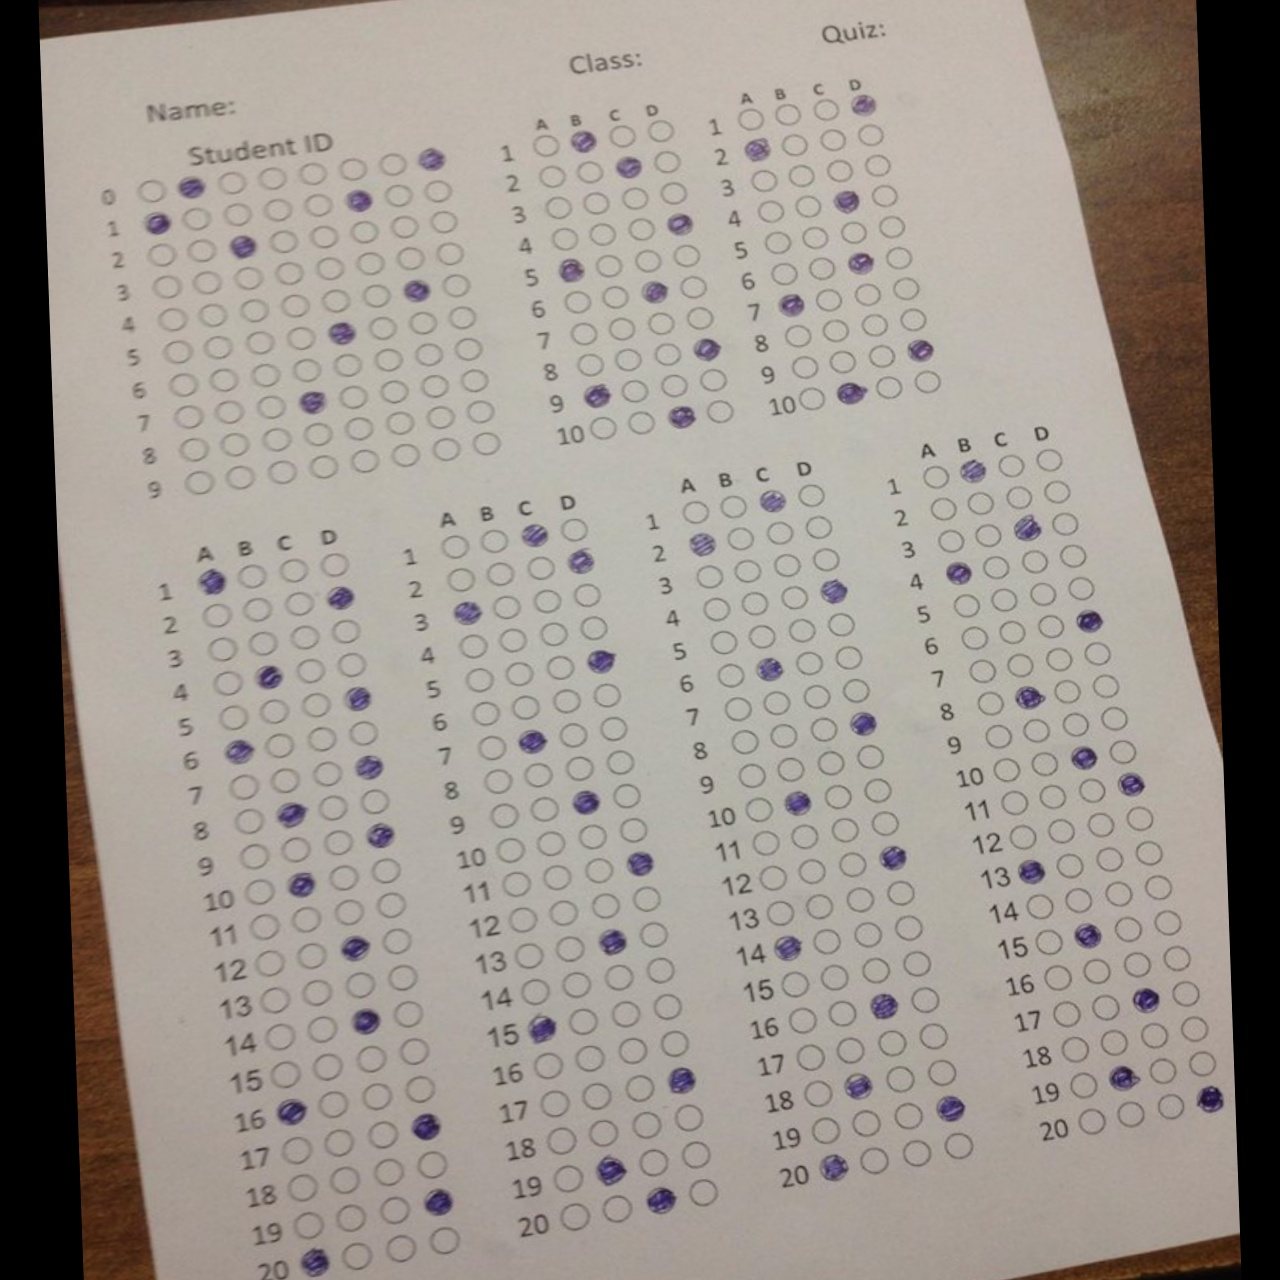not-c: (350, 1042, 389, 1077), (259, 1022, 300, 1053), (542, 1123, 578, 1156), (679, 1139, 715, 1172), (369, 855, 407, 886), (399, 1034, 433, 1068), (430, 1223, 464, 1257), (849, 1108, 884, 1141), (559, 969, 595, 1001), (941, 1130, 978, 1162), (293, 940, 331, 971), (336, 1239, 374, 1269), (608, 999, 646, 1029), (580, 1080, 614, 1112), (686, 1175, 719, 1208), (247, 910, 282, 941), (390, 999, 425, 1030), (256, 985, 292, 1015), (386, 964, 422, 994), (576, 822, 613, 851), (629, 1109, 662, 1142), (268, 1057, 302, 1089), (406, 1075, 440, 1107), (372, 1157, 406, 1189), (618, 815, 652, 846), (892, 1099, 924, 1133), (601, 960, 636, 990), (554, 1160, 585, 1196), (881, 1064, 917, 1095), (250, 948, 286, 978), (291, 656, 328, 685), (672, 1101, 704, 1132), (836, 849, 869, 880), (334, 1204, 368, 1234), (531, 1049, 565, 1080), (617, 1036, 651, 1067), (625, 1074, 659, 1104), (559, 1200, 593, 1231), (835, 1036, 869, 1067), (300, 418, 335, 448), (328, 1163, 358, 1198), (636, 921, 672, 951), (858, 955, 893, 985), (478, 768, 515, 796), (518, 978, 554, 1006), (792, 1042, 829, 1070), (306, 1015, 338, 1047), (640, 1146, 672, 1178), (346, 971, 379, 1001), (290, 1172, 320, 1205), (1033, 927, 1065, 958), (431, 435, 465, 464), (380, 926, 414, 955), (309, 1053, 343, 1082), (564, 754, 598, 783), (572, 1043, 606, 1073), (587, 1118, 621, 1148), (600, 1194, 634, 1224), (821, 781, 855, 810), (883, 879, 917, 908), (1114, 1099, 1148, 1129), (315, 795, 350, 823), (588, 683, 624, 712), (498, 869, 533, 897), (505, 907, 542, 934), (417, 1150, 448, 1182), (381, 1194, 411, 1226), (526, 794, 558, 824), (632, 884, 663, 914), (828, 999, 859, 1029), (919, 459, 951, 490), (1051, 999, 1083, 1029), (348, 447, 381, 476), (278, 556, 311, 585), (282, 590, 315, 619), (348, 719, 381, 748), (386, 1233, 418, 1262), (870, 809, 903, 838), (817, 962, 850, 992), (258, 699, 292, 727), (857, 1146, 891, 1175), (132, 176, 168, 203), (312, 256, 347, 282), (243, 878, 278, 905), (892, 915, 927, 942), (898, 951, 933, 978), (607, 748, 638, 778), (576, 349, 606, 380), (919, 1021, 949, 1051), (361, 282, 393, 312), (324, 1128, 355, 1157), (293, 1210, 325, 1239), (485, 559, 517, 588), (456, 629, 488, 659), (554, 933, 586, 962), (659, 372, 690, 401), (812, 927, 844, 956), (855, 120, 886, 149), (1091, 993, 1123, 1022), (1189, 1049, 1220, 1078), (447, 302, 479, 331), (301, 978, 334, 1006), (486, 802, 519, 830), (652, 149, 685, 177), (651, 342, 683, 370), (763, 898, 796, 926), (843, 887, 876, 915), (906, 985, 939, 1013), (995, 452, 1028, 481), (1121, 949, 1153, 978), (284, 325, 318, 352), (219, 430, 253, 457), (343, 415, 377, 442), (215, 703, 248, 730), (549, 689, 583, 716), (801, 894, 835, 921), (787, 1006, 821, 1033), (801, 1080, 835, 1107), (1080, 959, 1114, 986), (226, 774, 261, 799), (237, 845, 272, 871), (332, 898, 367, 924), (530, 588, 565, 614), (459, 666, 495, 692), (468, 701, 503, 727), (588, 894, 624, 920), (556, 724, 592, 749), (271, 765, 301, 795), (523, 760, 553, 789), (733, 557, 763, 586), (831, 815, 862, 844), (904, 1138, 934, 1167), (1067, 1070, 1097, 1099), (321, 549, 353, 577), (360, 789, 392, 817), (505, 661, 537, 689), (926, 1058, 958, 1087), (973, 520, 1005, 549), (1024, 893, 1056, 921), (1170, 980, 1201, 1008), (250, 361, 282, 388), (465, 399, 498, 425), (278, 835, 311, 862), (290, 904, 322, 931), (316, 1090, 349, 1117), (535, 831, 567, 858), (542, 195, 574, 222), (659, 181, 692, 207), (626, 218, 659, 245), (728, 727, 761, 754), (874, 1030, 907, 1057), (1162, 945, 1194, 972), (299, 693, 333, 719), (477, 527, 511, 553), (539, 865, 573, 891), (716, 493, 750, 519), (232, 266, 267, 291), (199, 604, 234, 628), (281, 1135, 311, 1164), (608, 123, 638, 152), (803, 682, 832, 712), (899, 304, 928, 333), (225, 462, 256, 490), (611, 783, 641, 811), (549, 900, 579, 928), (568, 1007, 599, 1035), (540, 1090, 571, 1118), (613, 343, 644, 372), (842, 675, 872, 703), (1058, 543, 1089, 571), (1062, 710, 1092, 738), (1042, 964, 1073, 992), (392, 441, 423, 468), (233, 808, 265, 835), (375, 892, 407, 919), (476, 735, 508, 762), (646, 955, 678, 982), (653, 993, 685, 1020), (576, 157, 607, 184), (644, 311, 675, 338), (704, 399, 736, 425), (745, 622, 777, 649), (825, 611, 857, 638), (762, 692, 794, 719), (736, 763, 768, 790), (774, 755, 805, 782), (853, 743, 885, 770), (862, 777, 893, 804), (937, 527, 968, 554), (966, 658, 998, 685), (1042, 647, 1074, 674), (1124, 806, 1156, 833), (772, 100, 804, 127), (297, 159, 329, 185), (308, 223, 341, 248), (408, 309, 441, 335), (185, 470, 218, 496), (207, 636, 240, 662), (324, 830, 356, 856), (578, 617, 611, 642), (828, 348, 860, 374), (1081, 641, 1114, 667), (166, 373, 200, 397), (266, 459, 300, 484), (849, 922, 883, 947), (186, 234, 216, 263), (455, 335, 484, 363), (542, 621, 571, 649), (595, 251, 624, 280), (696, 369, 731, 393), (707, 629, 736, 658), (1145, 874, 1175, 903), (1179, 1017, 1208, 1046), (1157, 1091, 1185, 1121), (427, 404, 457, 431), (474, 429, 501, 459), (238, 561, 268, 588), (241, 595, 272, 622), (498, 627, 529, 654), (551, 226, 581, 253), (672, 243, 702, 270), (804, 515, 835, 542), (772, 551, 803, 578), (788, 617, 818, 644), (817, 127, 847, 154), (871, 182, 901, 209), (913, 367, 944, 394), (1050, 510, 1081, 537), (1020, 549, 1050, 576), (1090, 670, 1121, 697), (990, 756, 1021, 783), (1107, 738, 1137, 765), (1114, 917, 1144, 944), (1076, 1108, 1107, 1135), (320, 290, 352, 315), (163, 339, 195, 365), (245, 331, 277, 356), (173, 407, 205, 433), (256, 395, 287, 421), (309, 456, 341, 482), (572, 584, 604, 610), (586, 222, 618, 247), (809, 716, 840, 742), (1058, 1037, 1090, 1063), (1148, 1057, 1179, 1083), (202, 338, 234, 362), (263, 427, 295, 451), (290, 626, 322, 651), (794, 648, 826, 673), (292, 356, 320, 384), (314, 760, 342, 788), (440, 532, 468, 560), (727, 522, 755, 550), (1039, 783, 1067, 811), (369, 314, 399, 341), (421, 372, 450, 399), (308, 726, 338, 753), (331, 864, 360, 891), (513, 942, 543, 969), (561, 290, 591, 316), (930, 493, 959, 520), (1036, 613, 1065, 640), (975, 688, 1005, 715), (218, 171, 248, 197), (384, 182, 415, 207), (356, 251, 387, 277), (198, 302, 229, 328), (332, 353, 362, 379), (332, 621, 362, 647), (336, 651, 367, 676), (584, 858, 614, 884), (647, 117, 678, 143), (583, 191, 613, 217), (633, 248, 663, 274), (796, 482, 826, 508), (722, 696, 753, 722), (782, 971, 812, 996), (1000, 789, 1030, 815), (1054, 852, 1084, 878), (248, 632, 280, 656), (811, 546, 843, 571), (748, 168, 779, 192), (862, 154, 893, 178), (1044, 818, 1076, 843), (258, 168, 291, 191), (338, 157, 370, 181), (179, 438, 212, 462), (781, 324, 813, 347), (363, 1083, 392, 1110), (560, 515, 588, 542), (660, 1030, 688, 1057), (686, 306, 714, 333), (681, 497, 709, 524), (703, 595, 731, 622), (781, 585, 809, 612), (961, 624, 989, 651), (1007, 652, 1035, 679), (1105, 881, 1133, 908), (150, 274, 184, 297), (424, 179, 454, 205), (512, 695, 542, 721), (678, 275, 707, 301), (747, 794, 772, 823), (809, 1116, 838, 1142), (789, 163, 818, 189), (860, 314, 890, 340), (866, 343, 896, 369), (1029, 581, 1058, 607), (1085, 811, 1115, 837), (1099, 1029, 1129, 1055), (417, 343, 448, 368), (216, 670, 246, 695), (495, 838, 525, 863), (620, 186, 651, 211), (568, 322, 599, 347), (587, 415, 618, 440), (765, 522, 796, 546), (751, 832, 782, 857), (789, 823, 819, 847), (770, 263, 801, 287), (821, 318, 851, 342), (1065, 576, 1096, 600), (1008, 823, 1039, 847), (628, 410, 660, 434), (741, 593, 772, 617), (873, 375, 905, 399), (1020, 719, 1051, 742), (274, 263, 307, 285), (370, 1121, 397, 1148), (549, 656, 576, 683), (1080, 777, 1107, 804), (1141, 1022, 1167, 1049), (377, 152, 406, 178), (145, 241, 173, 267), (193, 270, 222, 295), (493, 595, 522, 621), (622, 377, 651, 403), (758, 865, 787, 891), (799, 857, 828, 883), (1037, 448, 1065, 474), (983, 556, 1012, 581), (1065, 886, 1091, 914), (607, 315, 636, 340), (770, 726, 799, 750), (1054, 680, 1083, 704), (1098, 706, 1128, 730), (1032, 751, 1061, 776), (270, 231, 300, 254), (240, 300, 271, 324), (386, 410, 416, 434), (599, 717, 629, 741), (810, 97, 840, 121), (755, 199, 785, 223), (789, 355, 819, 379), (348, 222, 380, 244), (799, 226, 831, 248), (215, 400, 241, 425), (797, 384, 824, 410), (968, 489, 994, 516), (1096, 846, 1122, 873), (1136, 840, 1162, 867), (434, 243, 462, 267), (281, 294, 309, 319), (381, 380, 409, 404), (447, 567, 479, 588), (716, 663, 744, 688), (836, 646, 864, 670), (892, 275, 920, 300), (985, 723, 1013, 748), (224, 203, 253, 226), (442, 274, 471, 298), (738, 108, 768, 131), (304, 193, 334, 216), (395, 248, 425, 271), (157, 308, 188, 331), (877, 215, 907, 237), (429, 213, 461, 234), (211, 366, 237, 392), (342, 386, 368, 411), (602, 285, 628, 311), (1156, 908, 1182, 934), (459, 370, 486, 395), (535, 135, 561, 159), (809, 257, 836, 281), (265, 198, 293, 222), (824, 159, 852, 183), (792, 196, 821, 219), (816, 288, 844, 312), (839, 220, 869, 243), (998, 622, 1027, 645), (268, 734, 295, 757), (527, 554, 554, 578), (539, 164, 566, 188), (855, 284, 881, 307), (990, 588, 1017, 612), (765, 233, 794, 256), (1007, 486, 1035, 509), (953, 594, 981, 617), (1044, 481, 1074, 502), (390, 215, 416, 238), (695, 565, 721, 588), (182, 207, 210, 229), (375, 349, 403, 370), (816, 753, 842, 775), (781, 134, 806, 156), (883, 248, 911, 268)
taken-c: (422, 1183, 461, 1220), (294, 1242, 331, 1279), (1130, 985, 1167, 1019), (253, 659, 290, 693), (565, 546, 602, 579), (338, 935, 376, 966), (567, 788, 606, 818), (645, 1183, 678, 1218), (411, 1111, 447, 1143), (524, 1012, 561, 1041), (638, 277, 672, 308), (1010, 513, 1046, 544), (1107, 1062, 1143, 1091), (1192, 1085, 1228, 1115), (1071, 606, 1109, 634), (869, 992, 900, 1024), (934, 1094, 967, 1125), (274, 1095, 308, 1125), (597, 927, 631, 958), (662, 1065, 697, 1095), (1073, 921, 1104, 953), (817, 1155, 850, 1185), (877, 845, 915, 871), (196, 567, 230, 597), (365, 823, 399, 852), (585, 647, 619, 676), (595, 1155, 629, 1184), (1016, 855, 1050, 884), (1114, 772, 1150, 799), (353, 753, 384, 783), (350, 1008, 382, 1039), (1070, 744, 1102, 775), (905, 336, 939, 365), (835, 381, 869, 409), (818, 577, 852, 605), (771, 937, 805, 965), (1014, 685, 1048, 713), (580, 387, 617, 413), (347, 188, 377, 218), (229, 233, 261, 261), (325, 322, 359, 349), (343, 688, 377, 715), (516, 728, 550, 755), (753, 656, 787, 683), (844, 1073, 874, 1102), (959, 455, 988, 485), (224, 737, 256, 765), (418, 147, 451, 173), (290, 871, 319, 900), (693, 338, 723, 366), (775, 292, 805, 320), (142, 210, 173, 237), (846, 250, 878, 277), (327, 587, 359, 614), (942, 561, 974, 588), (617, 155, 649, 181), (667, 406, 697, 433), (850, 91, 880, 118), (738, 139, 775, 162), (520, 520, 550, 547), (452, 599, 485, 622), (406, 277, 434, 304), (626, 849, 653, 877), (785, 789, 813, 816), (295, 392, 329, 414), (833, 191, 864, 216), (274, 802, 306, 825), (570, 128, 598, 154), (850, 710, 878, 736), (686, 532, 717, 554), (557, 257, 584, 282), (760, 488, 787, 513), (665, 211, 694, 234), (179, 175, 207, 198)
